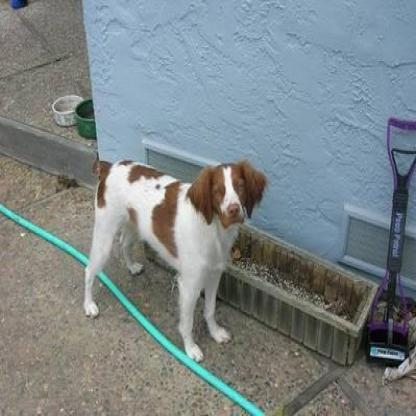Brittany_spaniel: (80, 156, 267, 361)
